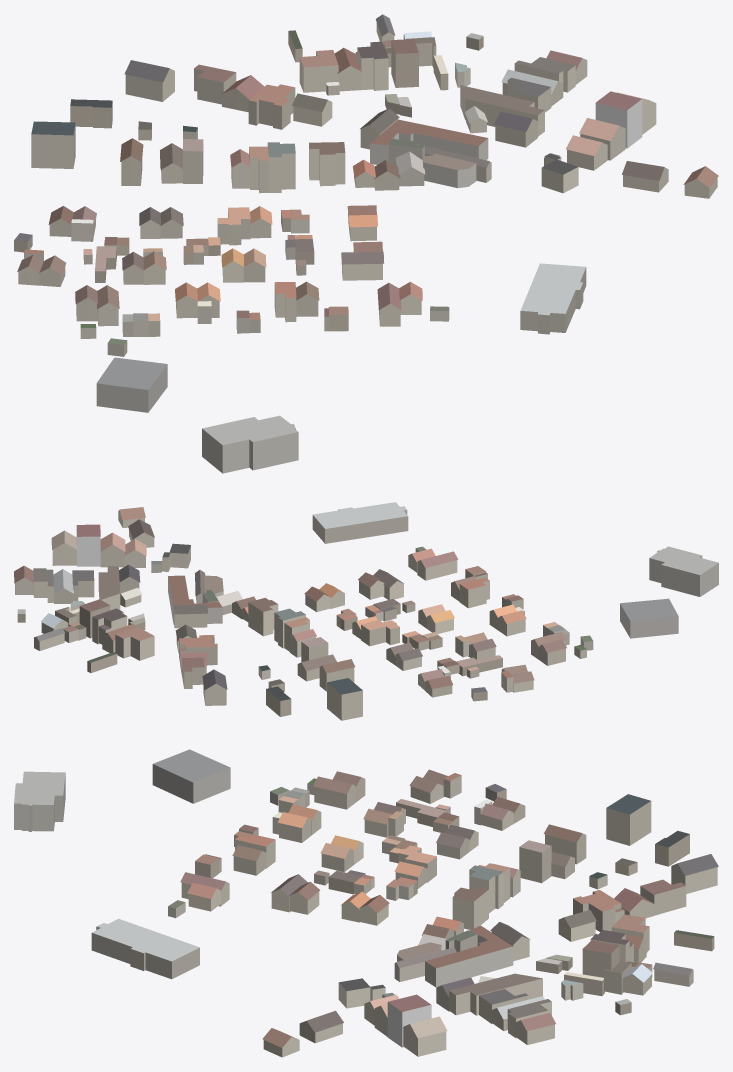
3 views of the same model, one above another, from view 1: azimuth 30°, elevation 25°; view 2: azimuth 150°, elevation 25°; view 3: azimuth 270°, elevation 25° (orthographic). The views are drawn at different scales.
Visible parts, largest first — view 1: tuile; view 2: tuile; view 3: tuile.
Part boxes in pixels (x1,y1,x2,y2): tuile: (14, 14, 718, 473); tuile: (14, 502, 718, 720); tuile: (14, 749, 718, 1057).
Bounding box in the file's own units: 256 × 28.68 × 246.
